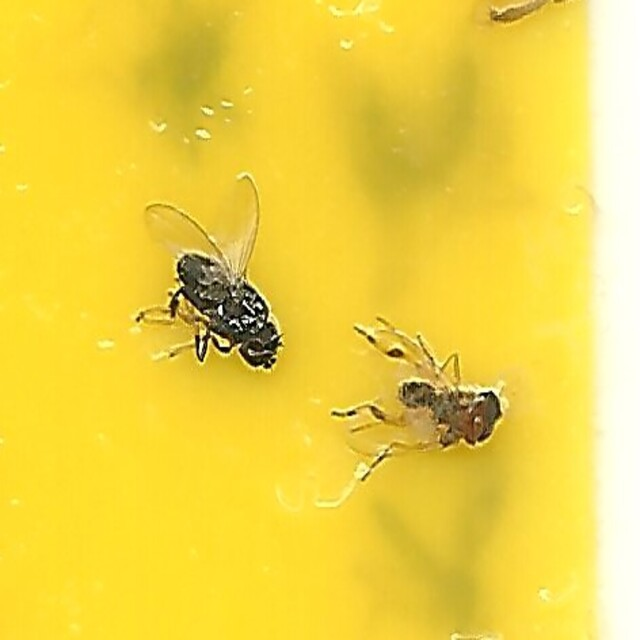Brachycera: (136, 168, 289, 384), (334, 296, 504, 472)
